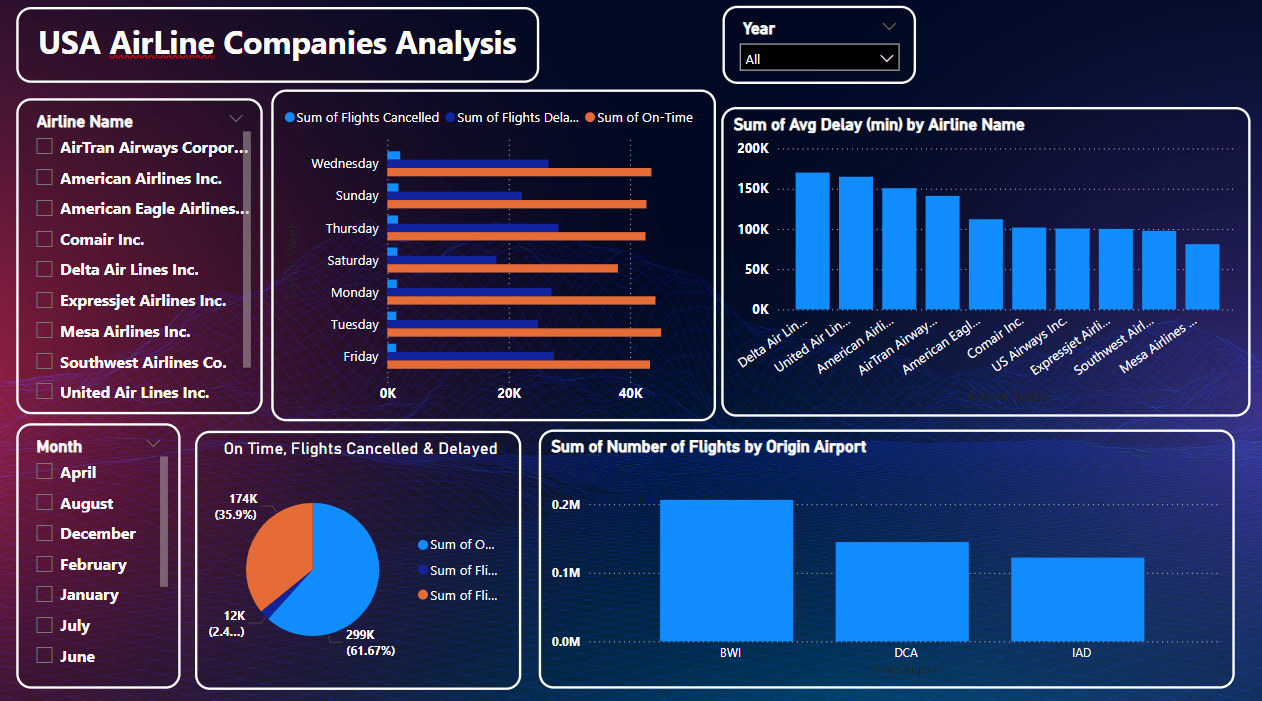

Layout of this report page (visuals, bound fields, positions):
{"tool":"powerbi","page":{"name":"Page 1","canvas":[1280,720],"ordinal":0},"visuals":[{"type":"textbox","box":[16.5,9.6,529.7,76.8],"z":0},{"type":"slicer","fields":{"Values":["Sheet1.Month"]},"box":[16.5,432.2,166,269],"z":1000},{"type":"clusteredBarChart","fields":{"Category":["Sheet1.Day of Week"],"Y":["Sum(Sheet1.Flights Cancelled)","Sum(Sheet1.Flights Delayed)","Sum(Sheet1.On-Time)"]},"box":[274.4,93.3,450.1,336.2],"z":2000},{"type":"slicer","fields":{"Values":["Sheet1.Airline Name"]},"box":[16.5,102.9,249.7,319.7],"z":3000},{"type":"pieChart","title":"On Time, Flights Cancelled & Delayed","fields":{"Y":["Sum(Sheet1.On-Time)","Sum(Sheet1.Flights Cancelled)","Sum(Sheet1.Flights Delayed)"]},"box":[197.6,439.1,330.7,262.1],"z":4000},{"type":"clusteredColumnChart","fields":{"Category":["Sheet1.Airline Name"],"Y":["Sum(Sheet1.Avg Delay (min))"]},"box":[730.8,111,535.9,314],"z":4001},{"type":"slicer","fields":{"Values":["Sheet1.Year"]},"box":[731.4,8.2,196.2,79.6],"z":4002},{"type":"columnChart","fields":{"Y":["Sum(Sheet1.Number of Flights)"],"Category":["Sheet1.Origin Airport"]},"box":[545.4,438.5,705.1,262.6],"z":4003}]}

Visuals, with their boxes in screenshot pixels (x1, y1, x2, y2), scaled from the page's 1280x720 canvas onto the 1262x701 screenshot:
textbox: region(16, 9, 539, 84)
slicer - Sheet1.Month: region(16, 421, 180, 683)
clusteredBarChart - Sheet1.Day of Week x Sum(Sheet1.Flights Cancelled): region(271, 91, 714, 418)
slicer - Sheet1.Airline Name: region(16, 100, 262, 411)
"On Time, Flights Cancelled & Delayed" pieChart: region(195, 428, 521, 683)
clusteredColumnChart - Sheet1.Airline Name x Sum(Sheet1.Avg Delay (min)): region(721, 108, 1249, 414)
slicer - Sheet1.Year: region(721, 8, 915, 85)
columnChart - Sum(Sheet1.Number of Flights) x Sheet1.Origin Airport: region(538, 427, 1233, 683)
